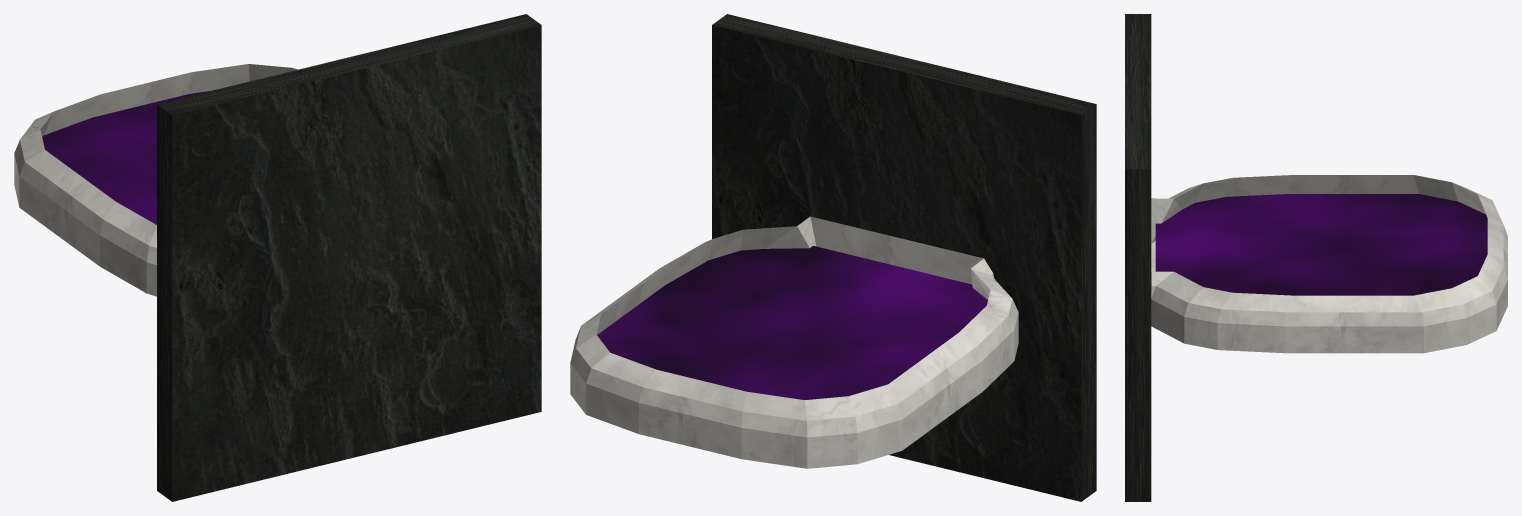
File: mirror.obj
The picture shows the model from 3 angles, left to right: view 1: azimuth 30°, elevation 25°; view 2: azimuth 150°, elevation 25°; view 3: azimuth 270°, elevation 25°; orthographic projection. The views are drawn at different scales.
Visible parts, largest first — view 1: Base_Cube.001, Rim_Plane, Mirror_Plane.001; view 2: Base_Cube.001, Rim_Plane, Mirror_Plane.001; view 3: Mirror_Plane.001, Rim_Plane, Base_Cube.001.
Boxes of the visible parts, bbox=[...] form: Base_Cube.001: bbox=[157, 14, 541, 501]; Rim_Plane: bbox=[14, 64, 297, 296]; Mirror_Plane.001: bbox=[42, 90, 211, 224]; Base_Cube.001: bbox=[712, 14, 1096, 501]; Rim_Plane: bbox=[570, 216, 1018, 468]; Mirror_Plane.001: bbox=[597, 246, 987, 399]; Mirror_Plane.001: bbox=[1155, 194, 1487, 295]; Rim_Plane: bbox=[1151, 175, 1507, 353]; Base_Cube.001: bbox=[1125, 14, 1151, 501].
Bounding box in the file's own units: 1 × 1 × 1.04.
